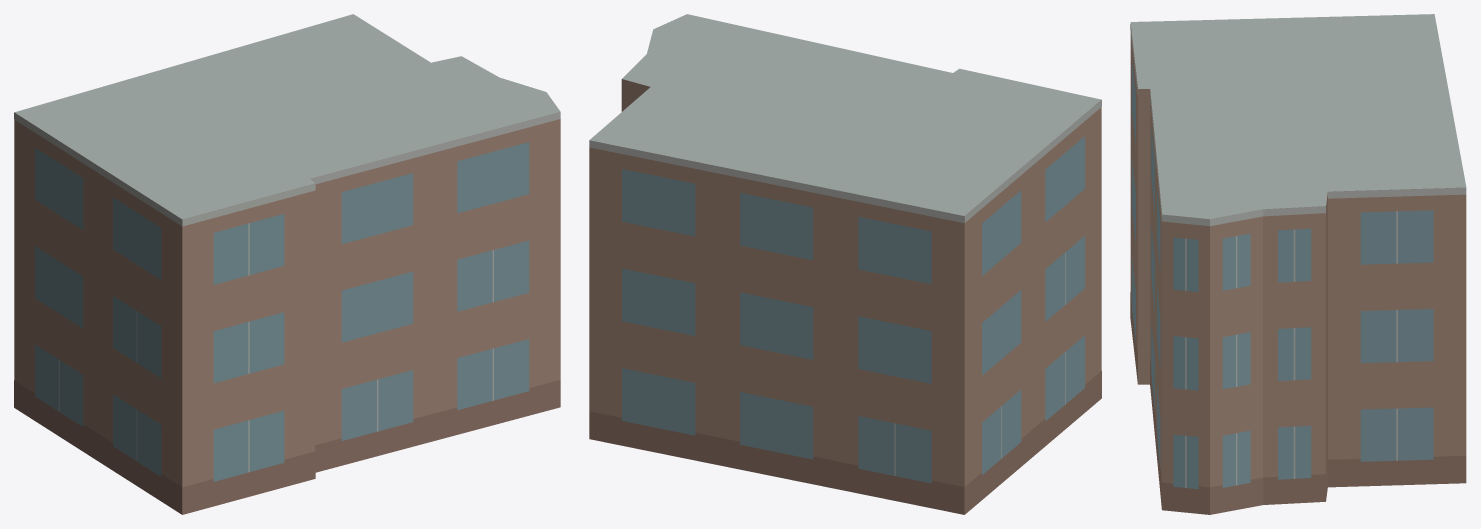
The model's file is survey-upis-32662397.glb.
The picture shows the model from 3 angles, left to right: view 1: azimuth 30°, elevation 25°; view 2: azimuth 150°, elevation 25°; view 3: azimuth 270°, elevation 25°; orthographic projection.
Visible parts, largest first — view 1: survey-upis-32662397.tmp; view 2: survey-upis-32662397.tmp; view 3: survey-upis-32662397.tmp.
Part boxes in pixels (left/top/right/bottom): survey-upis-32662397.tmp: left=14, top=14, right=560, bottom=514; survey-upis-32662397.tmp: left=589, top=14, right=1101, bottom=514; survey-upis-32662397.tmp: left=1130, top=14, right=1466, bottom=514.
Bounding box in the file's own units: 15.19 × 10.2 × 10.52.
